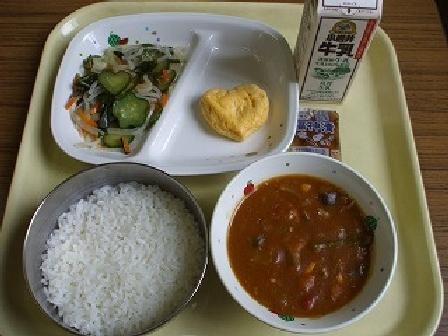Curry: (208, 157, 399, 322)
Milk: (281, 3, 391, 105)
Rice: (11, 159, 212, 331)
Salad: (56, 36, 173, 140)
pastry: (191, 70, 271, 147)
